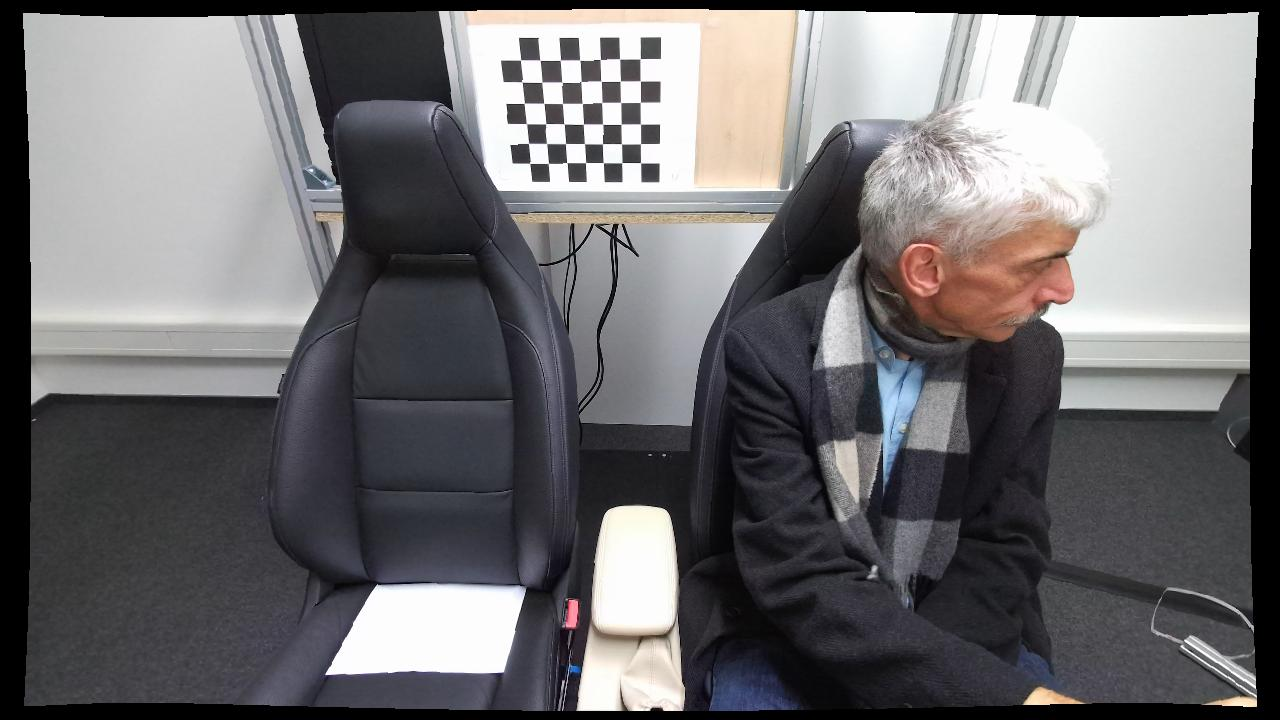Distracted: (692, 90, 1118, 714)
